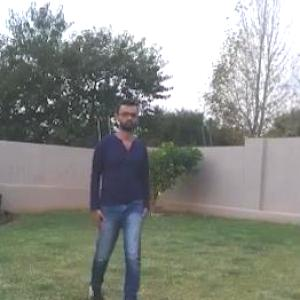follow: (94, 107, 148, 290)
